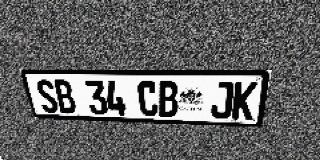3: (84, 80, 108, 115)
4: (104, 80, 127, 115)
B: (52, 80, 77, 114), (157, 81, 178, 117)
C: (137, 81, 159, 116)
J: (210, 82, 234, 119)
K: (231, 82, 258, 120)
S: (34, 80, 60, 113)
